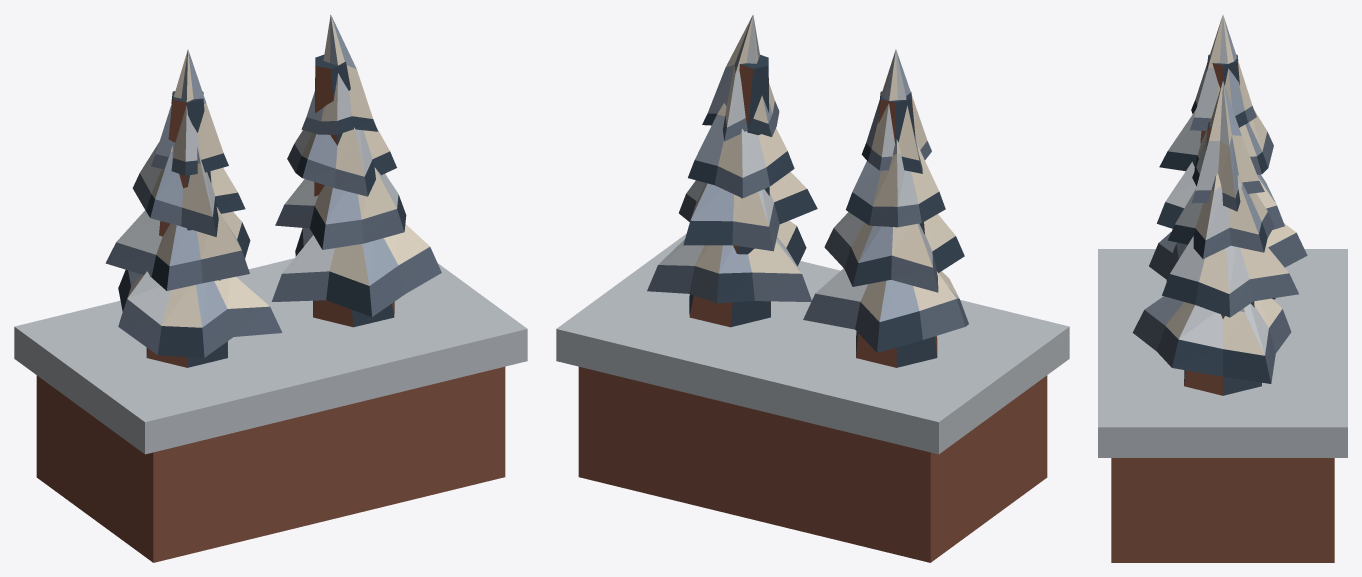
Rendered from planter.glb.
3 renders of one model, left to right at view 1: azimuth 30°, elevation 25°; view 2: azimuth 150°, elevation 25°; view 3: azimuth 270°, elevation 25°, orthographic. The views are drawn at different scales.
Visible parts, largest first — view 1: planter; view 2: planter; view 3: planter.
Part boxes in pixels (x1,y1,x2,y2): planter: (14, 14, 527, 562); planter: (556, 14, 1069, 562); planter: (1098, 15, 1347, 562).
Bounding box in the file's own units: 1.74 × 1.95 × 1.03.
